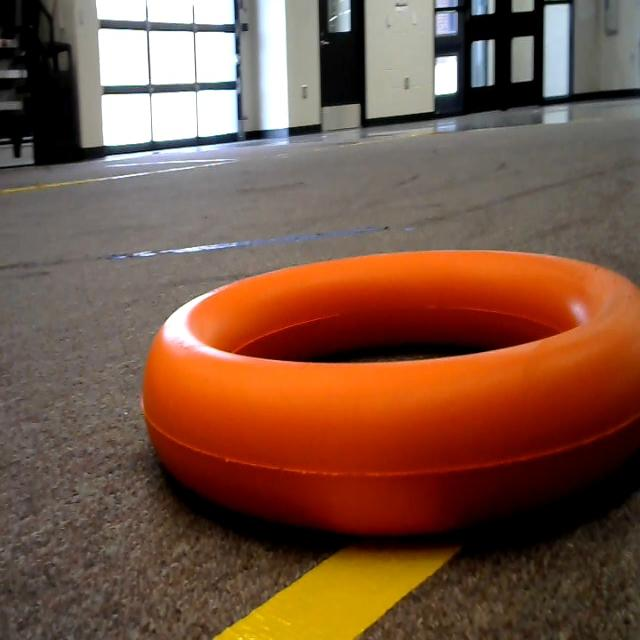note: (130, 229, 640, 606)
